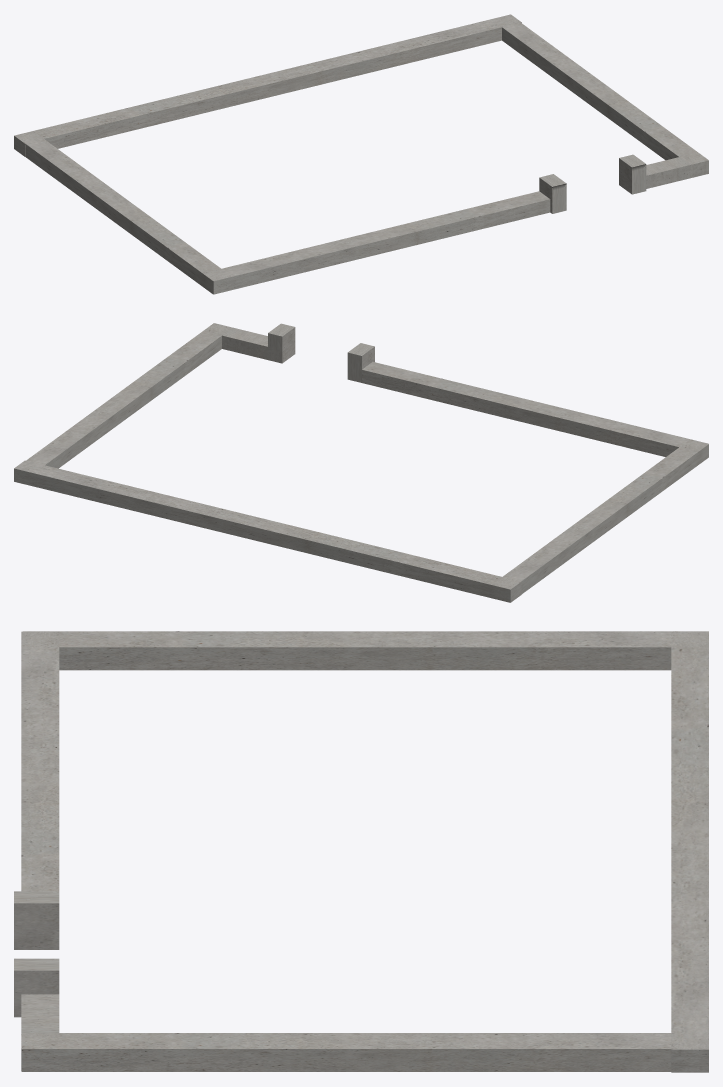
File: school fence.FBX
3 renders of one model, top to bottom at view 1: azimuth 30°, elevation 25°; view 2: azimuth 150°, elevation 25°; view 3: azimuth 270°, elevation 25°, orthographic. The views are drawn at different scales.
Visible parts, largest first — view 1: School fence; view 2: School fence; view 3: School fence.
Part boxes in pixels (x1=…): School fence: x1=14, y1=14, x2=708, y2=294; School fence: x1=14, y1=323, x2=708, y2=602; School fence: x1=14, y1=631, x2=708, y2=1072.
Bounding box in the file's own units: 4837 × 252 × 3395.
